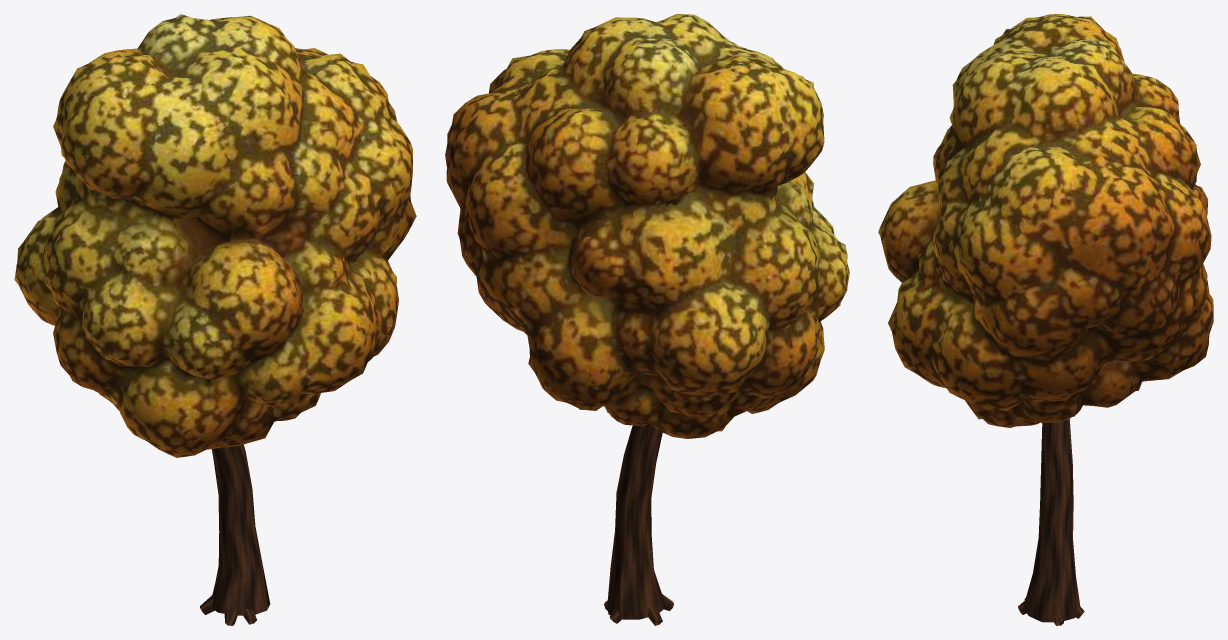
Rendered from tree_maple_amber_lod1.glb.
3 renders of one model, left to right at view 1: azimuth 30°, elevation 25°; view 2: azimuth 150°, elevation 25°; view 3: azimuth 270°, elevation 25°, orthographic. The views are drawn at different scales.
Visible parts, largest first — view 1: tree_maple_amber_crown1, trunk.001; view 2: tree_maple_amber_crown1, trunk.001; view 3: tree_maple_amber_crown1, trunk.001.
Part boxes in pixels (x1=…): tree_maple_amber_crown1: x1=14, y1=14, x2=416, y2=457; trunk.001: x1=200, y1=444, x2=270, y2=625; tree_maple_amber_crown1: x1=445, y1=14, x2=849, y2=438; trunk.001: x1=604, y1=424, x2=673, y2=625; tree_maple_amber_crown1: x1=878, y1=14, x2=1213, y2=427; trunk.001: x1=1018, y1=419, x2=1084, y2=625.
Size of the model in its own units: 2.23 by 3.69 by 2.02.
2 materials, 2 textured.
